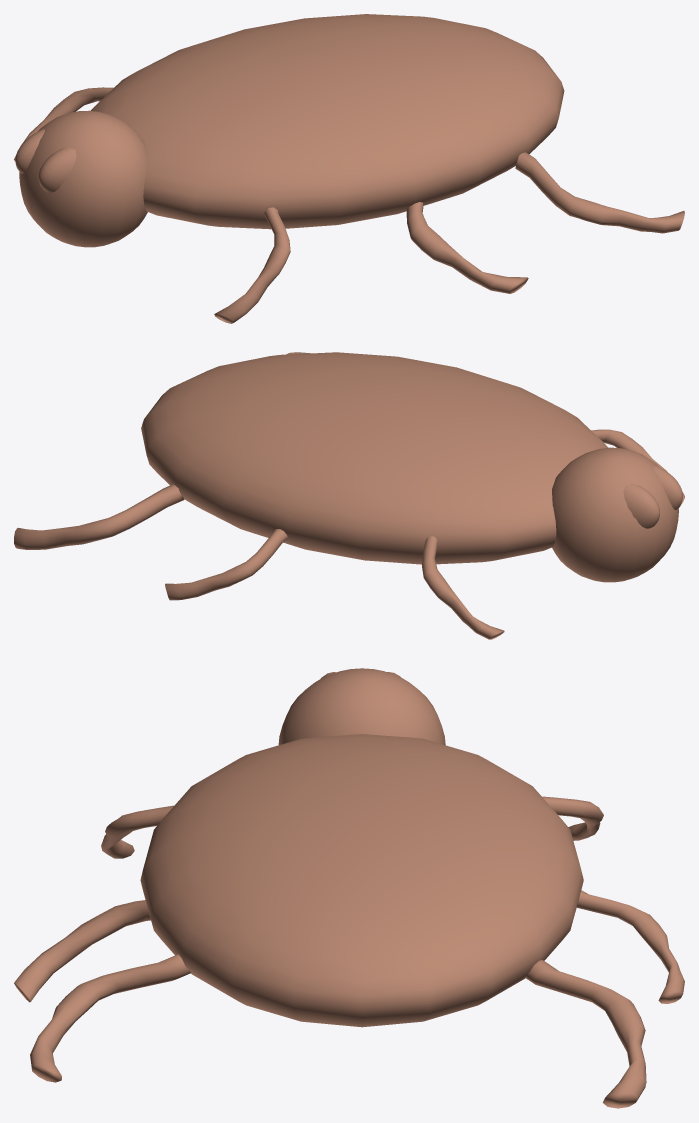
The model's file is beetle.fbx.
The picture shows the model from 3 angles, top to bottom: view 1: azimuth 30°, elevation 25°; view 2: azimuth 150°, elevation 25°; view 3: azimuth 270°, elevation 25°; orthographic projection. The views are drawn at different scales.
Parts seen in each view (by area): view 1: pSphere3, pSphere1, pCylinder1, pCylinder4, pCylinder6, pSphere5, pCylinder5, pSphere4; view 2: pSphere3, pSphere1, pCylinder2, pCylinder3, pCylinder5, pSphere4, pCylinder6, pSphere5; view 3: pSphere3, pSphere1, pCylinder2, pCylinder1, pCylinder4, pCylinder3, pCylinder6, pCylinder5.
Boxes of the visible parts, left/top/right/bottom form: pSphere3: left=91, top=14, right=564, bottom=229; pSphere1: left=19, top=110, right=147, bottom=247; pCylinder1: left=515, top=152, right=684, bottom=233; pCylinder4: left=406, top=202, right=528, bottom=293; pCylinder6: left=214, top=207, right=290, bottom=323; pSphere5: left=38, top=147, right=76, bottom=192; pCylinder5: left=14, top=87, right=113, bottom=161; pSphere4: left=15, top=128, right=44, bottom=173; pSphere3: left=141, top=352, right=608, bottom=564; pSphere1: left=552, top=447, right=678, bottom=582; pCylinder2: left=14, top=484, right=184, bottom=549; pCylinder3: left=165, top=529, right=288, bottom=600; pCylinder5: left=422, top=536, right=504, bottom=639; pSphere4: left=623, top=483, right=659, bottom=528; pCylinder6: left=591, top=429, right=684, bottom=508; pSphere5: left=653, top=464, right=682, bottom=509; pSphere3: left=140, top=734, right=583, bottom=1027; pSphere1: left=278, top=668, right=445, bottom=745; pCylinder2: left=525, top=960, right=646, bottom=1108; pCylinder1: left=30, top=954, right=190, bottom=1082; pCylinder4: left=14, top=900, right=150, bottom=1002; pCylinder3: left=576, top=890, right=684, bottom=1003; pCylinder6: left=101, top=805, right=173, bottom=858; pCylinder5: left=542, top=796, right=603, bottom=840.
Size of the model in its own units: 9.43 by 2.27 by 8.46.
